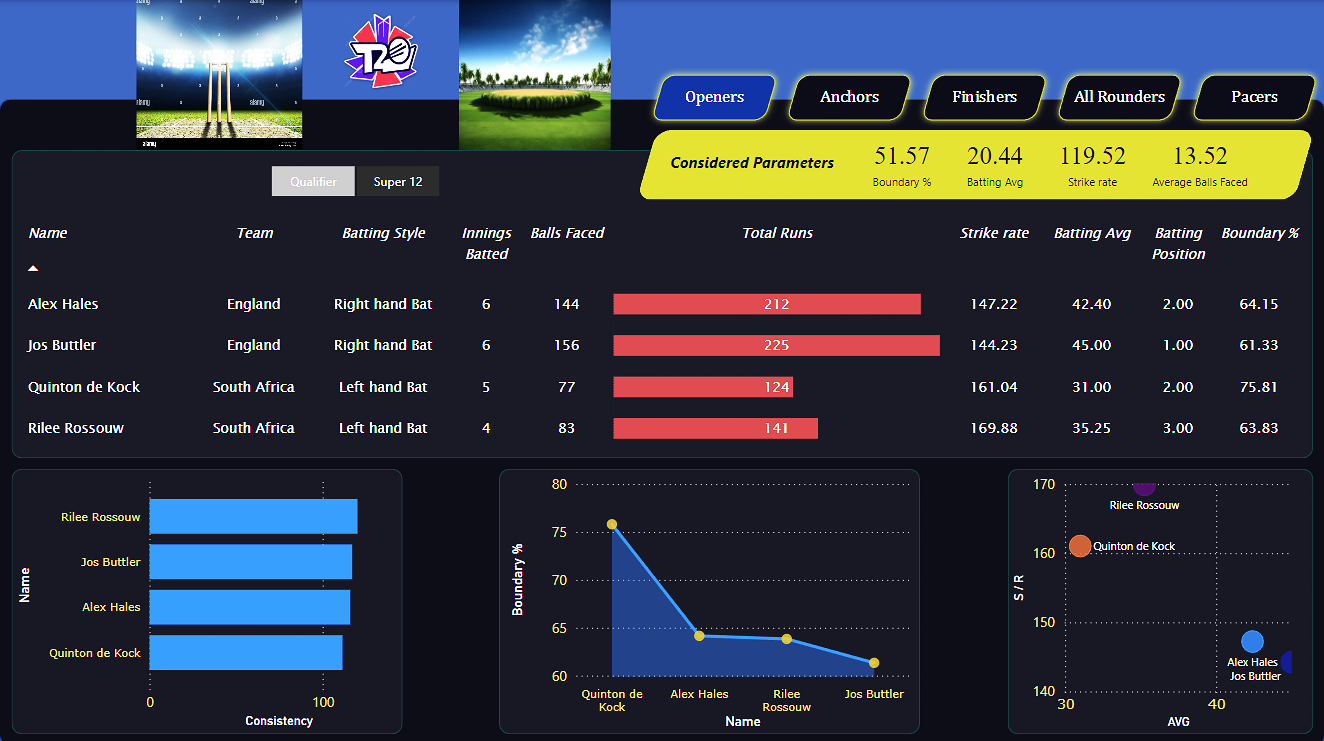

The dashboard page shown, as its layout file describes it:
{"tool":"powerbi","page":{"name":"Openers","canvas":[1280,720],"ordinal":0},"visuals":[{"type":"shape","box":[0,111,1280,289.5],"z":0},{"type":"shape","box":[0,95.3,1280,624.9],"z":1000},{"type":"scatterChart","fields":{"Category":["list_players.name"],"X":["Key_Measures.Batting Avg"],"Y":["Key_Measures.Strike rate"],"Series":["list_players.name"]},"box":[973.6,452.4,288.3,255.8],"z":2000},{"type":"slicer","fields":{"Values":["match_summary.stage"]},"box":[242.9,157.8,201.7,32.9],"z":3000},{"type":"tableEx","fields":{"Values":["list_players.name","list_players.team","list_players.battingStyle","Key_Measures.Total Innings Batted","Key_Measures.total balls faced","Key_Measures.Total Runs","Key_Measures.Strike rate","Key_Measures.Batting Avg","Key_Measures.Batting Position","Key_Measures.Boundary %"]},"box":[16.9,200.3,1247.5,242.5],"z":4000},{"type":"shape","box":[12.5,145,1256.2,297.5],"z":5000},{"type":"shape","box":[973.8,452.5,295,256.2],"z":6000},{"type":"shape","box":[614.8,124.9,654.5,67.2],"z":7000},{"type":"card","fields":{"Values":["Key_Measures.Strike rate"]},"box":[1006.2,123,98.9,67.6],"z":8000},{"type":"card","fields":{"Values":["Key_Measures.Boundary %"]},"box":[826.4,123,90.5,67.6],"z":9000},{"type":"card","fields":{"Values":["Key_Measures.Batting Avg"]},"box":[916.9,123,89.3,67.6],"z":10000},{"type":"card","fields":{"Values":["Key_Measures.Average Balls Faced"]},"box":[1105.1,123,108.6,67.6],"z":11000},{"type":"shape","box":[627.3,141,199.1,30.2],"z":12000},{"type":"shape","box":[623,65,136.3,58],"z":13000},{"type":"shape","box":[753,65,136.3,58],"z":14000},{"type":"shape","box":[883,65,136.3,58],"z":15000},{"type":"shape","box":[1013,65,136.3,58],"z":16000},{"type":"shape","box":[1143.7,65,136.3,58],"z":17000},{"type":"image","box":[325,5,87.5,88.8],"z":18000},{"type":"barChart","fields":{"Category":["list_players.name"],"Y":["Key_Measures.Consistency"]},"box":[12.5,451.2,400,256.2],"z":19000},{"type":"shape","box":[12.5,452.5,377.5,256.2],"z":20000},{"type":"areaChart","fields":{"Category":["list_players.name"],"Y":["Key_Measures.Boundary %"]},"box":[488.8,452.5,400,256.2],"z":21000},{"type":"shape","box":[482.5,452.5,406.2,256.2],"z":22000},{"type":"image","box":[132.5,0,160,145],"z":23000},{"type":"image","box":[443.8,0,146.2,145],"z":24000}]}

Visuals, with their boxes in screenshot pixels (x1, y1, x2, y2), scaled from the page's 1280x720 canvas onto the 1324x741 screenshot:
shape: bbox=[0, 114, 1323, 412]
shape: bbox=[0, 98, 1323, 740]
scatterChart - list_players.name x Key_Measures.Batting Avg: bbox=[1007, 466, 1305, 729]
slicer - match_summary.stage: bbox=[251, 162, 460, 196]
tableEx - list_players.name x list_players.team: bbox=[17, 206, 1308, 456]
shape: bbox=[13, 149, 1312, 455]
shape: bbox=[1007, 466, 1312, 729]
shape: bbox=[636, 129, 1313, 198]
card - Key_Measures.Strike rate: bbox=[1041, 127, 1143, 196]
card - Key_Measures.Boundary %: bbox=[855, 127, 948, 196]
card - Key_Measures.Batting Avg: bbox=[948, 127, 1041, 196]
card - Key_Measures.Average Balls Faced: bbox=[1143, 127, 1255, 196]
shape: bbox=[649, 145, 855, 176]
shape: bbox=[644, 67, 785, 127]
shape: bbox=[779, 67, 920, 127]
shape: bbox=[913, 67, 1054, 127]
shape: bbox=[1048, 67, 1189, 127]
shape: bbox=[1183, 67, 1323, 127]
image: bbox=[336, 5, 427, 97]
barChart - list_players.name x Key_Measures.Consistency: bbox=[13, 464, 427, 728]
shape: bbox=[13, 466, 403, 729]
areaChart - list_players.name x Key_Measures.Boundary %: bbox=[506, 466, 919, 729]
shape: bbox=[499, 466, 919, 729]
image: bbox=[137, 0, 303, 149]
image: bbox=[459, 0, 610, 149]
